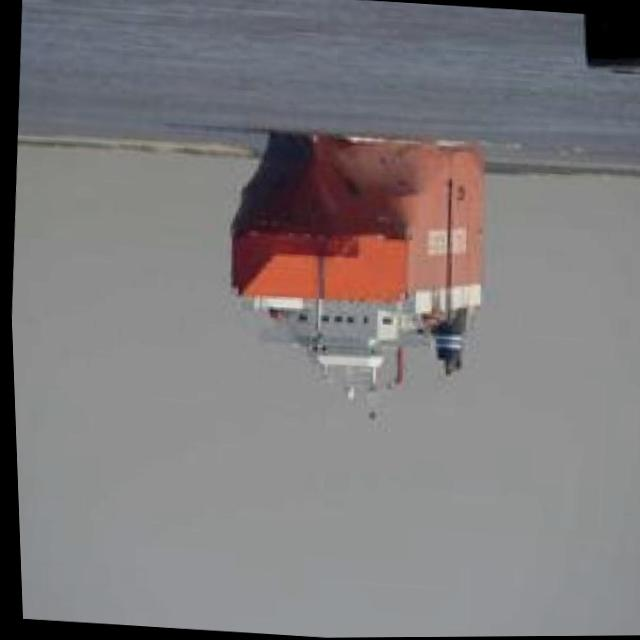ship2: (228, 131, 484, 422)
